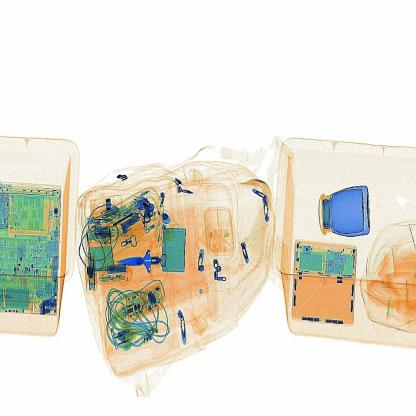gun: (109, 232, 184, 295)
